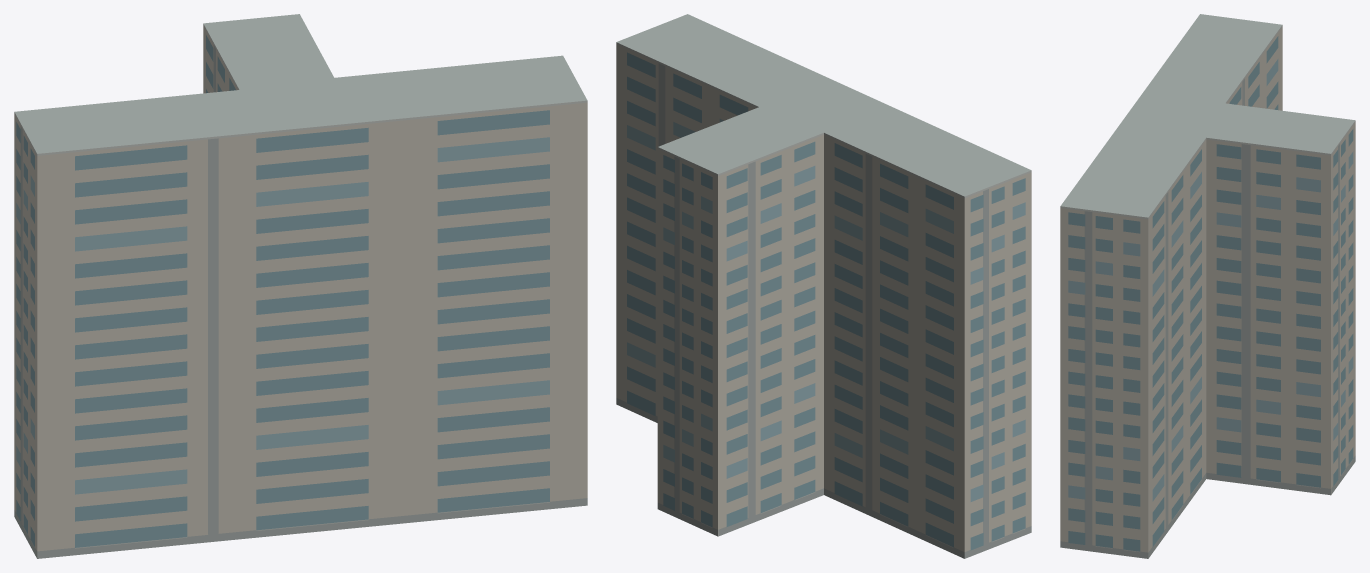
Rendered from residential-5a607f79-86c0-46e8-b7f4-aa207f635498.glb.
3 views of the same model, side by side, from view 1: azimuth 30°, elevation 25°; view 2: azimuth 150°, elevation 25°; view 3: azimuth 270°, elevation 25° (orthographic). The views are drawn at different scales.
Visible parts, largest first — view 1: residential-5a607f79-86c0-46e8-b7f4-aa207f635498.tmp; view 2: residential-5a607f79-86c0-46e8-b7f4-aa207f635498.tmp; view 3: residential-5a607f79-86c0-46e8-b7f4-aa207f635498.tmp.
Part boxes in pixels (<box>): residential-5a607f79-86c0-46e8-b7f4-aa207f635498.tmp: <box>14,14,587,558</box>; residential-5a607f79-86c0-46e8-b7f4-aa207f635498.tmp: <box>616,14,1031,558</box>; residential-5a607f79-86c0-46e8-b7f4-aa207f635498.tmp: <box>1060,14,1355,558</box>.
Size of the model in its own units: 61.42 by 48 by 37.64.
